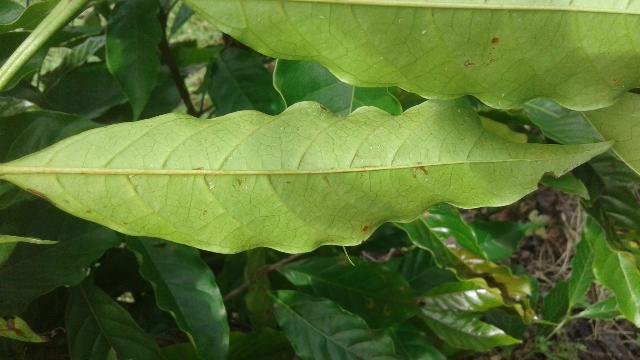rust_level_1: (0, 97, 625, 252)
